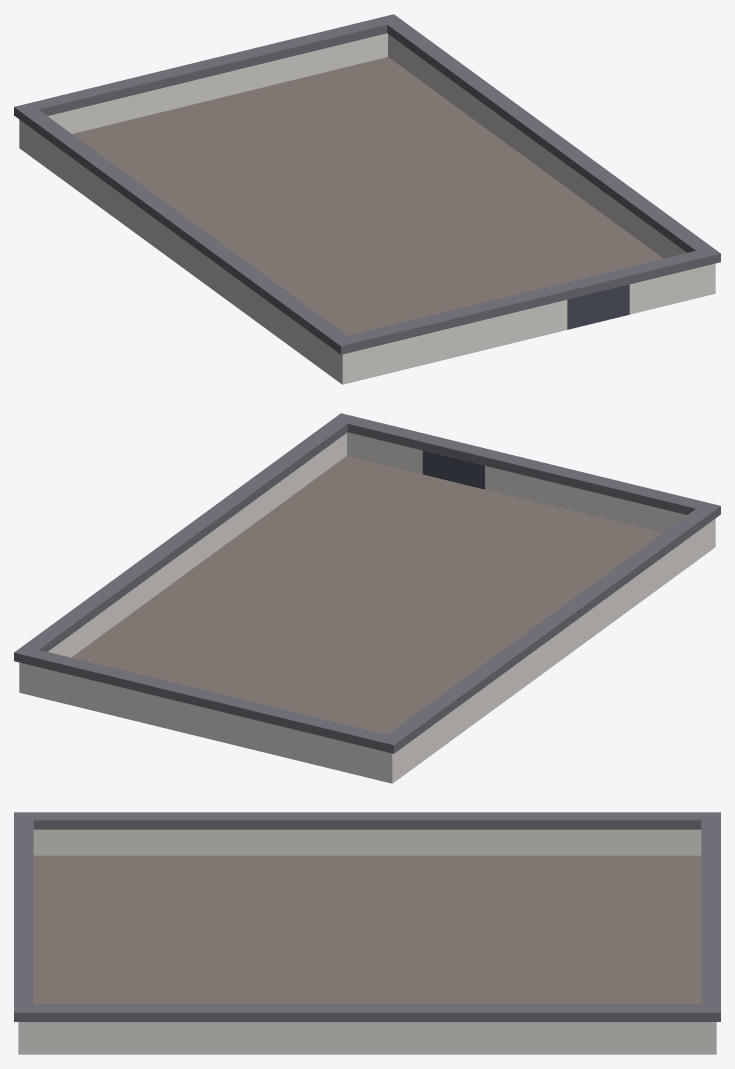
The model's file is SM_Roof_NarrowFlatStrip_White_546_01.gltf.
The picture shows the model from 3 angles, top to bottom: view 1: azimuth 30°, elevation 25°; view 2: azimuth 150°, elevation 25°; view 3: azimuth 270°, elevation 25°; orthographic projection. The views are drawn at different scales.
Visible parts, largest first — view 1: SM_Roof_NarrowFlatStrip_White_546_01; view 2: SM_Roof_NarrowFlatStrip_White_546_01; view 3: SM_Roof_NarrowFlatStrip_White_546_01.
Part boxes in pixels (<box>): SM_Roof_NarrowFlatStrip_White_546_01: <box>14,14,720,384</box>; SM_Roof_NarrowFlatStrip_White_546_01: <box>14,413,720,783</box>; SM_Roof_NarrowFlatStrip_White_546_01: <box>14,812,720,1054</box>.
Size of the model in its own units: 5.56 by 0.57 by 8.29.
1 material, 1 textured.
